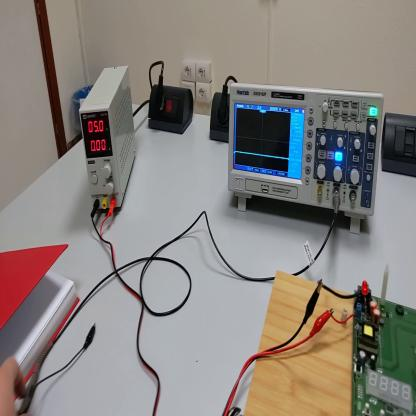hand: (1, 357, 27, 416)
low voltage board: (323, 264, 416, 414)
oscilloscope: (230, 82, 386, 234)
oscilloscope probe tip: (16, 344, 55, 416)
pliers: (227, 405, 242, 416)
power supply: (79, 64, 137, 212)
register: (2, 246, 80, 416)
socket: (148, 85, 195, 135), (212, 93, 231, 143)
working area: (246, 271, 355, 414)
